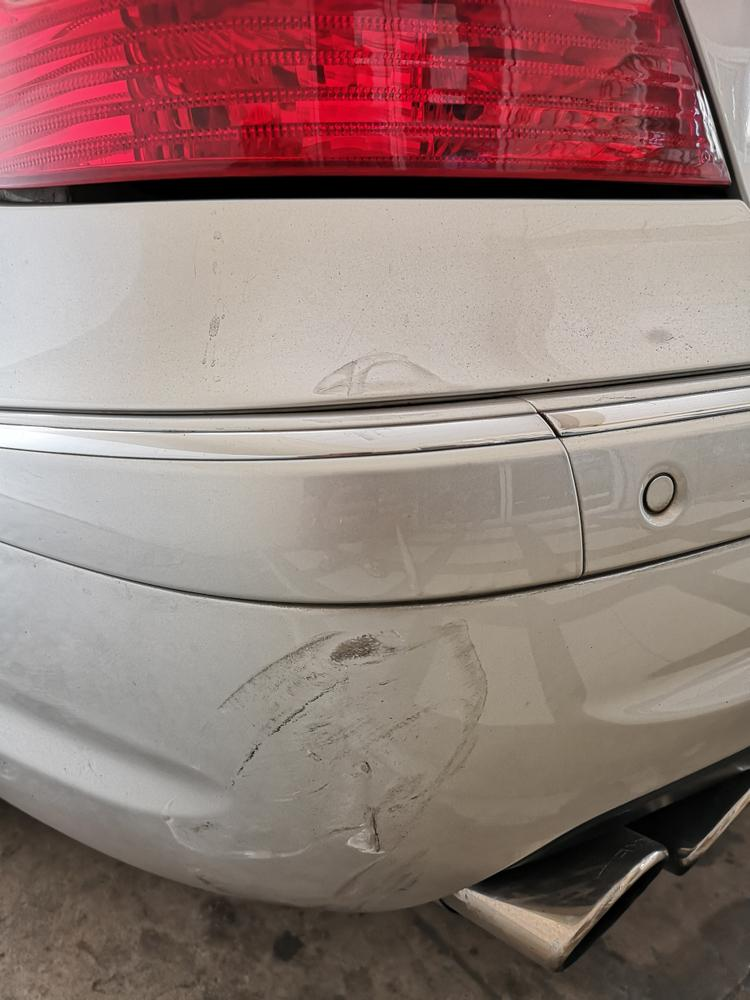scratch: (170, 623, 505, 888)
